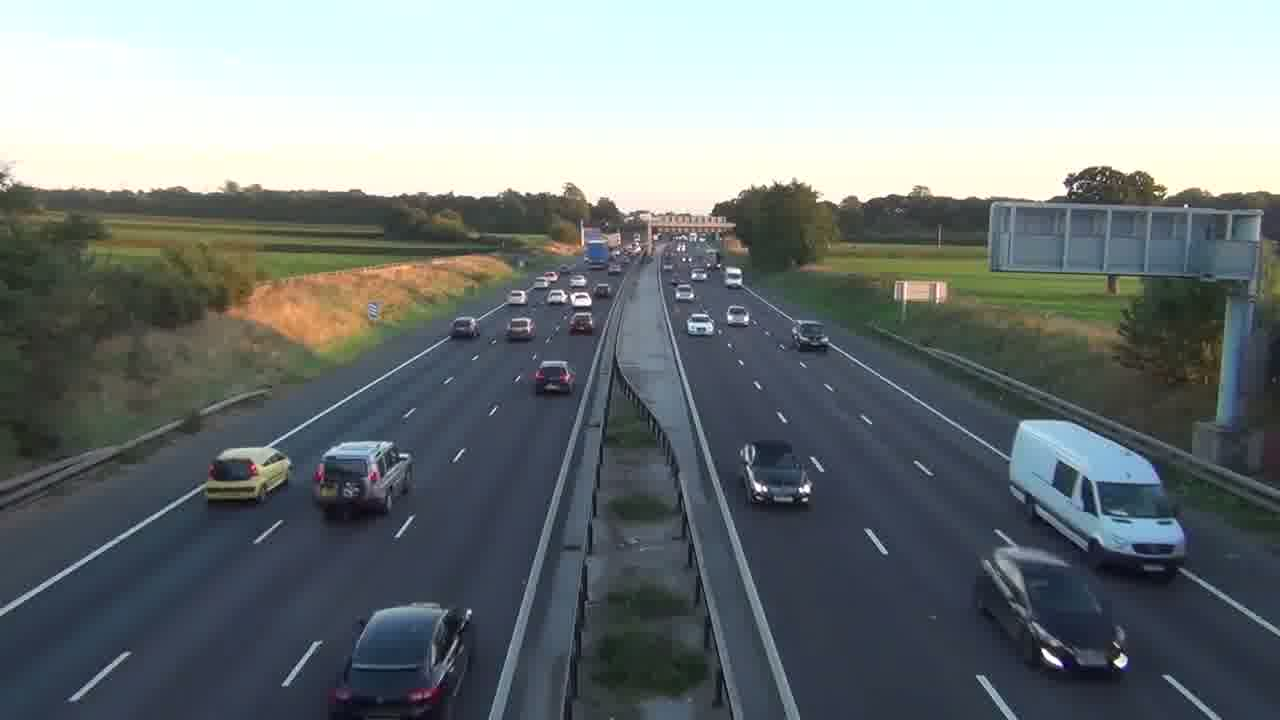car: (326, 602, 474, 718), (311, 439, 414, 516), (738, 439, 815, 507), (204, 445, 292, 504), (534, 359, 576, 395), (505, 316, 535, 342), (448, 316, 480, 340), (686, 312, 716, 337), (569, 311, 594, 335), (726, 306, 751, 327)
truck: (1007, 418, 1187, 580), (975, 541, 1131, 679), (326, 602, 474, 718)
